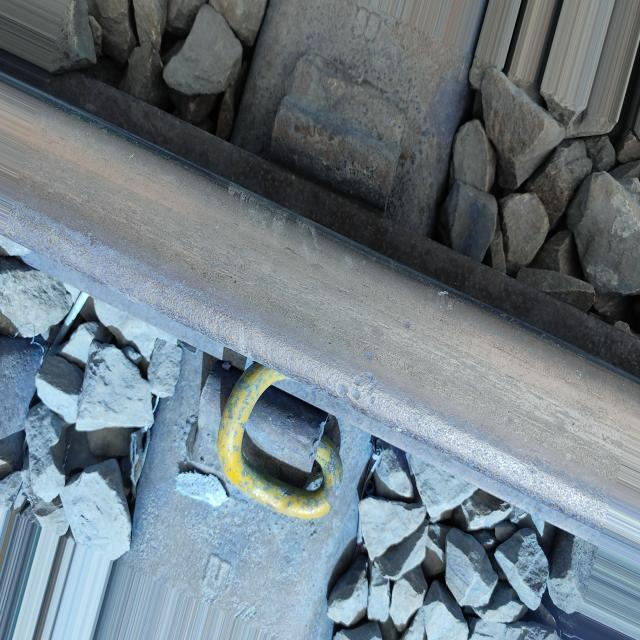Good Fasteners: (166, 348, 359, 573)
Missing Fastener: (242, 31, 428, 224)
